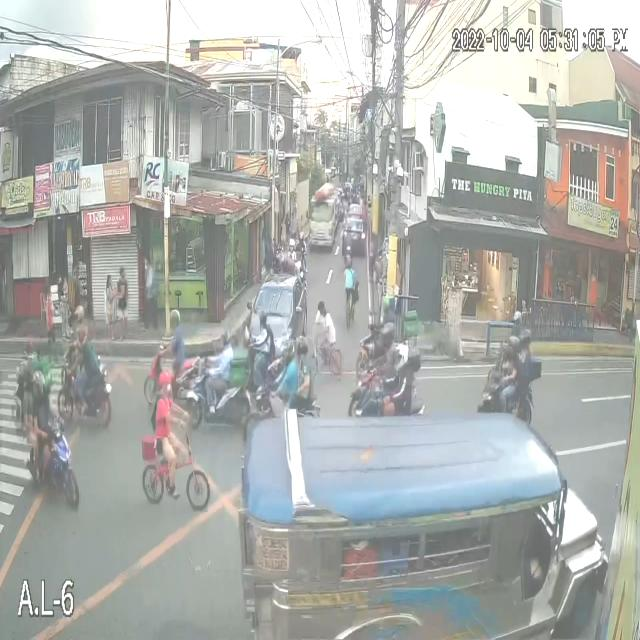Full-Faced: (371, 313, 394, 351), (32, 365, 46, 404), (164, 302, 178, 333), (72, 319, 88, 344), (291, 336, 307, 356), (22, 335, 37, 356), (503, 332, 517, 354), (257, 309, 271, 331), (519, 324, 529, 350), (219, 329, 232, 349), (342, 252, 354, 272), (272, 245, 284, 265), (72, 306, 84, 326), (509, 310, 521, 328), (289, 239, 297, 258), (298, 231, 306, 243)
Not-Wearing-Helmet: (159, 370, 176, 400), (315, 302, 325, 317)
